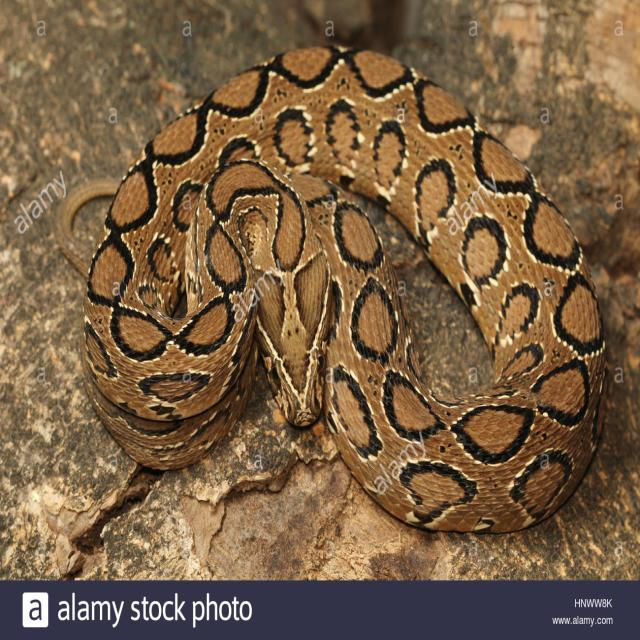Snake: (55, 42, 608, 534)
